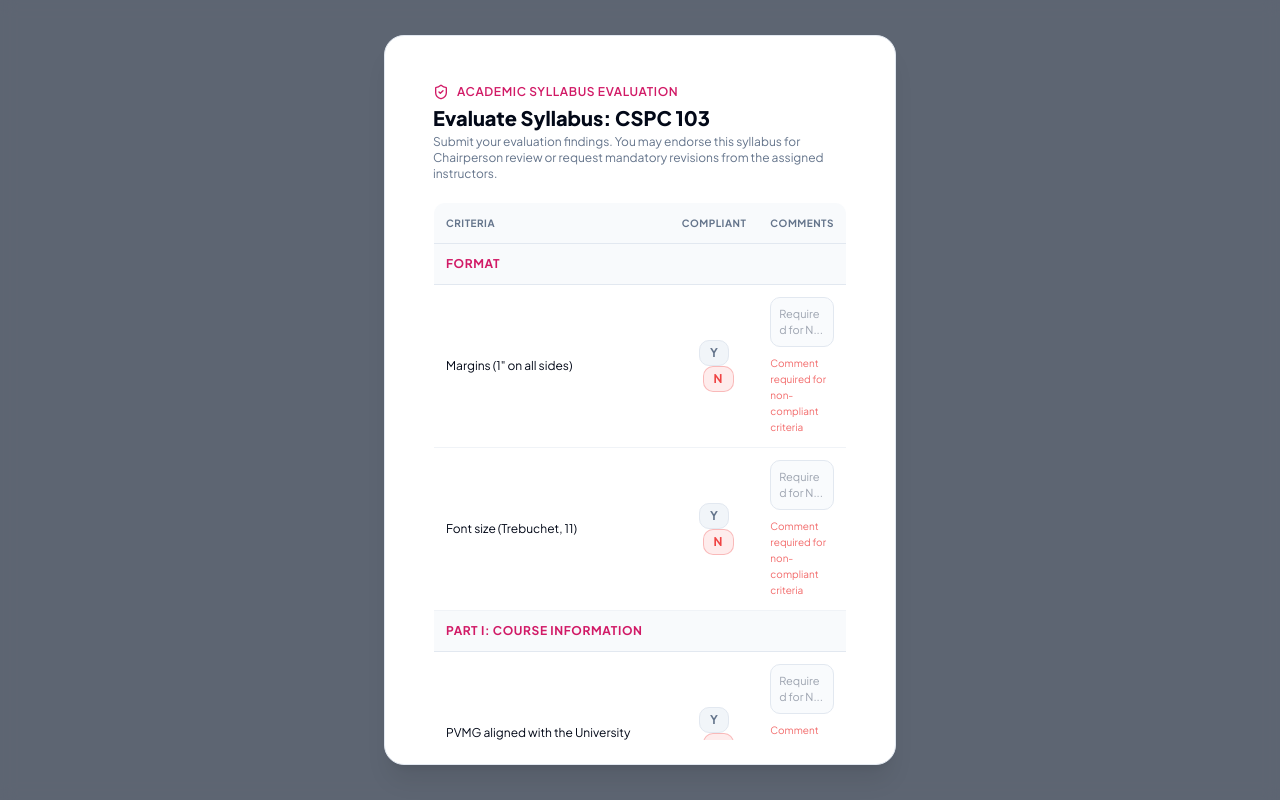
Scenario: EvaluatorReviewModal › requires remarks when requesting revisions
Click the button "Y" next to "Margins (1\" on all sides)" at (714, 353), box [699,340,729,366]
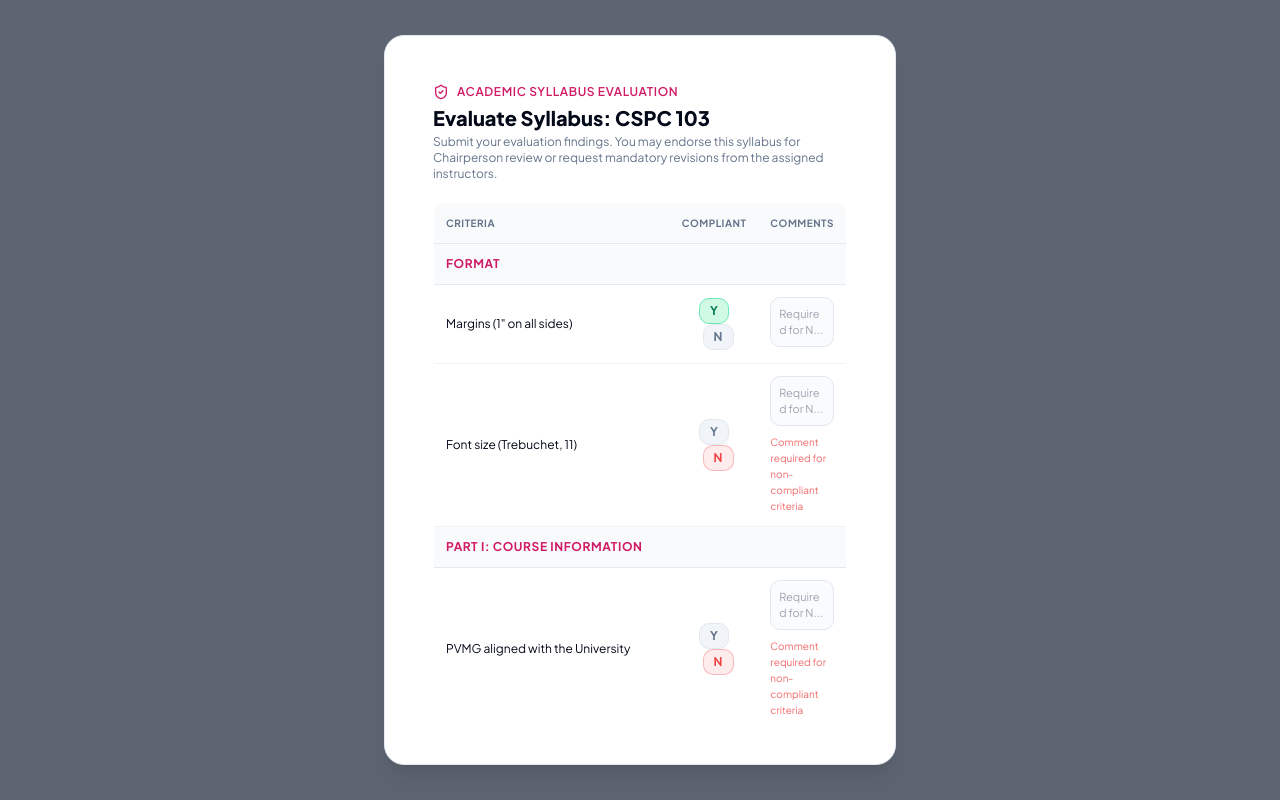
Click the button "Y" next to "Font size (Trebuchet, 11)" at (714, 432), box [699,419,729,445]
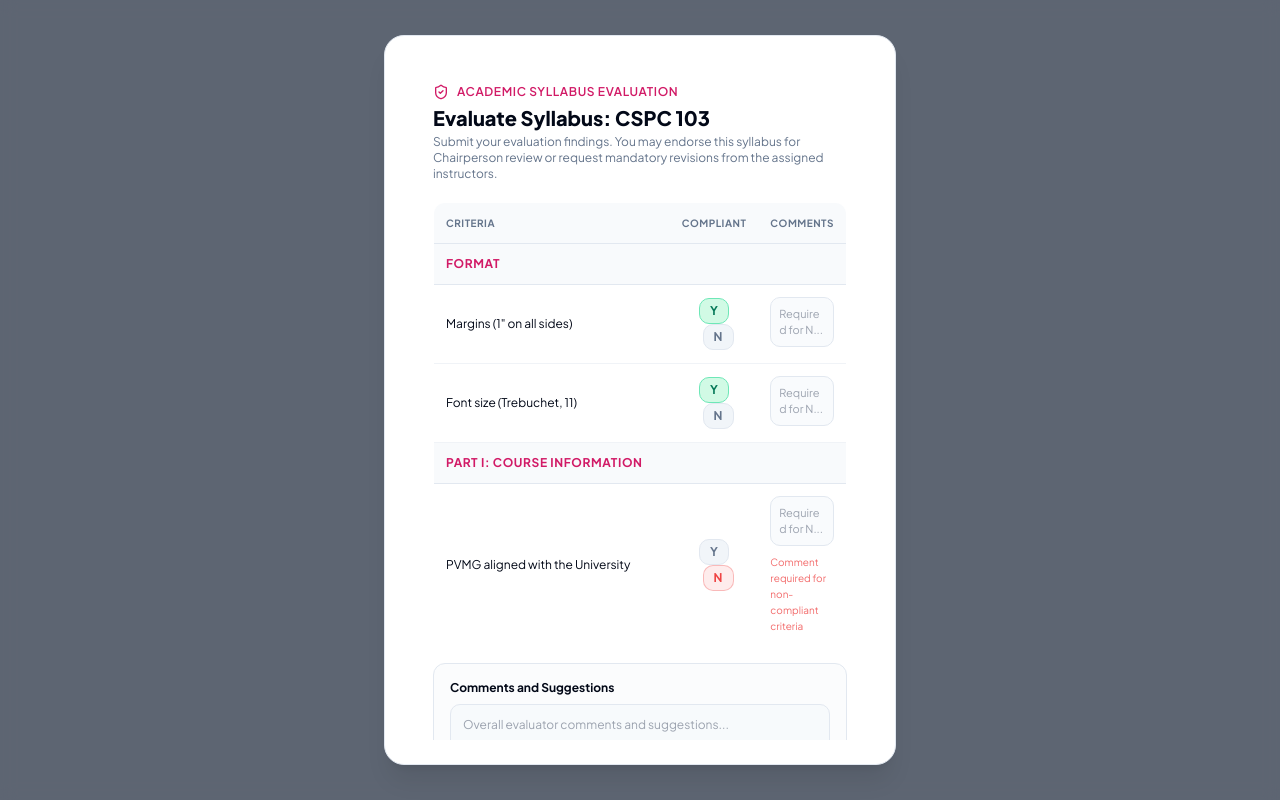
Click the button "Y" next to "PVMG aligned with the University" at (714, 552), box [699,539,729,565]
(page scrolled)
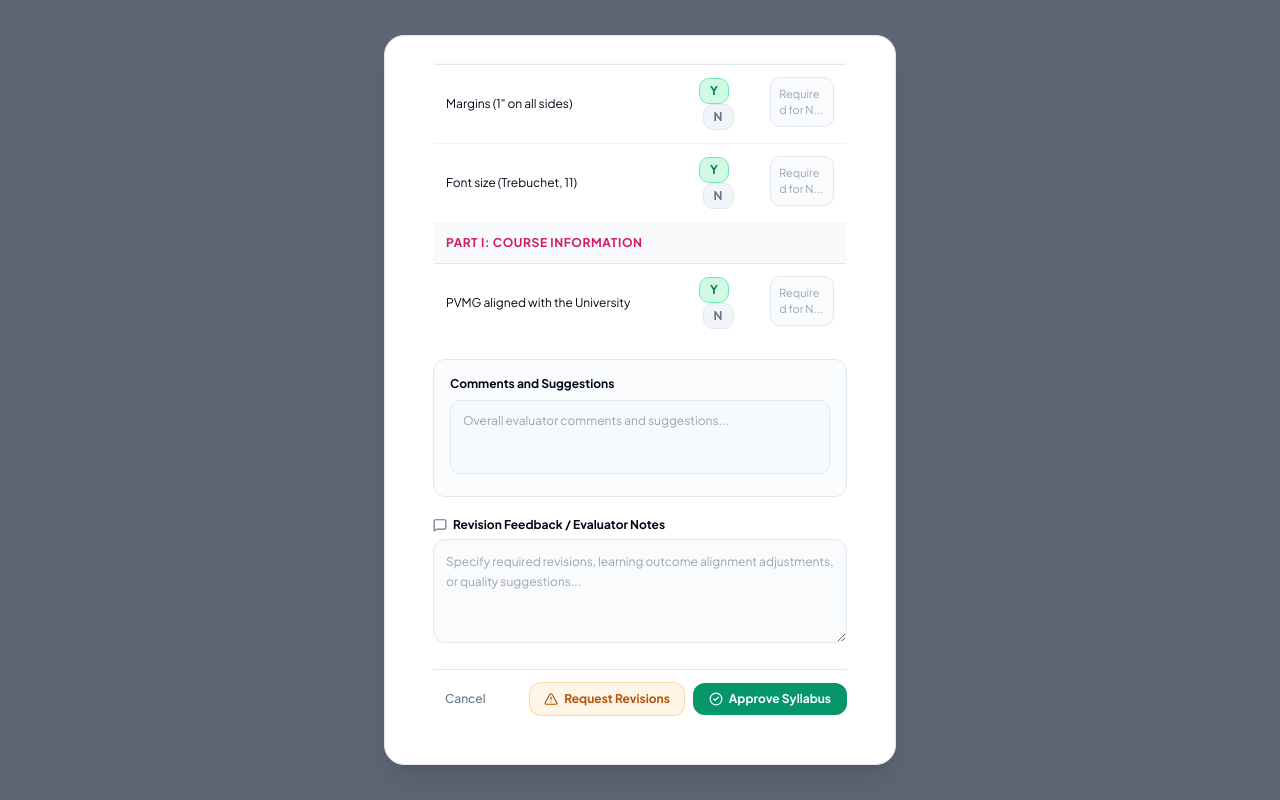
Click the button "Request Revisions" at (607, 699), box [529,682,685,716]
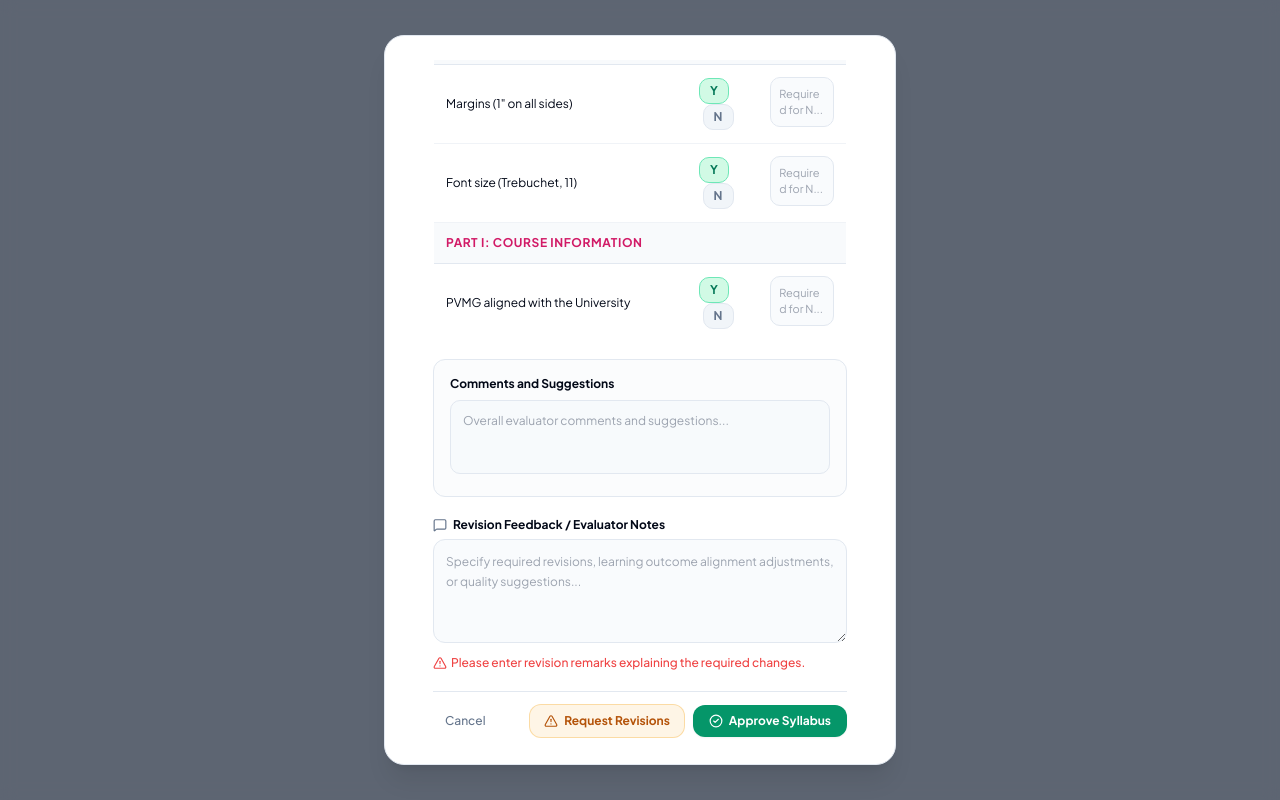
expect the text "Please enter revision remarks" is shown: met, box [451,655,805,670]
